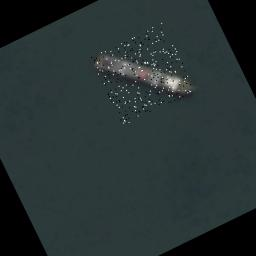boat: (90, 22, 196, 126)
